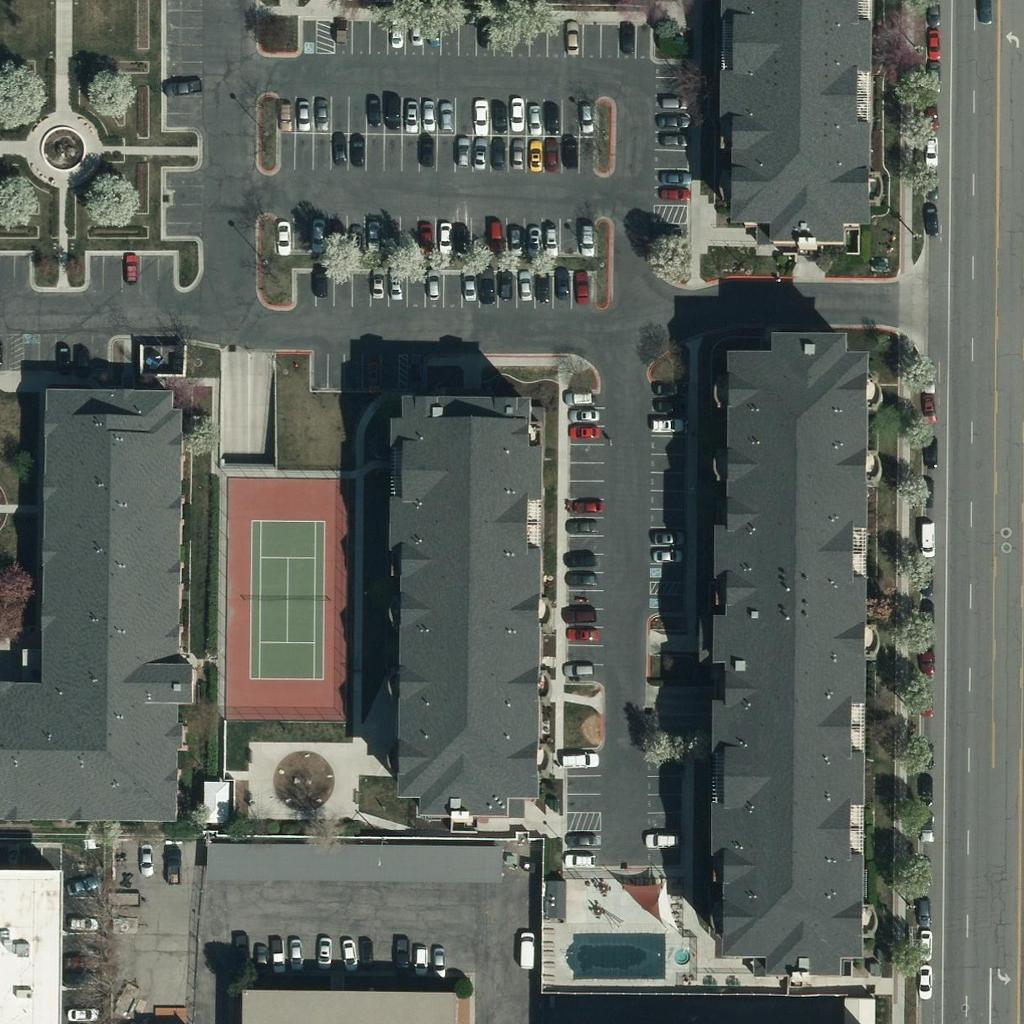car: (398, 10, 432, 44), (416, 11, 450, 45), (378, 14, 412, 48), (556, 18, 590, 52), (609, 21, 643, 55), (915, 25, 949, 59), (916, 56, 950, 90), (162, 70, 196, 104), (655, 84, 689, 118), (357, 92, 391, 126), (373, 94, 407, 128), (913, 94, 947, 128), (303, 95, 337, 129), (393, 97, 427, 131), (464, 97, 498, 131), (482, 97, 516, 131), (499, 97, 533, 131), (266, 98, 300, 132), (286, 98, 320, 132), (411, 98, 445, 132), (571, 98, 605, 132), (428, 100, 462, 134), (517, 101, 551, 135), (536, 101, 570, 135), (654, 101, 688, 135), (654, 122, 688, 156), (913, 129, 947, 163), (409, 130, 443, 164), (554, 131, 588, 165), (338, 132, 372, 166), (445, 133, 479, 167), (462, 135, 496, 169), (480, 135, 514, 169), (533, 135, 567, 169), (500, 136, 534, 170), (517, 136, 551, 170), (656, 159, 690, 193), (913, 169, 947, 203), (656, 175, 690, 209), (913, 201, 947, 235), (477, 216, 511, 250), (301, 217, 335, 251), (355, 217, 389, 251), (567, 219, 601, 253), (446, 220, 480, 254), (265, 221, 299, 255), (429, 221, 463, 255), (497, 221, 531, 255), (516, 221, 550, 255), (533, 221, 567, 255), (411, 223, 445, 257), (114, 250, 148, 284), (303, 261, 337, 295), (489, 263, 523, 297), (546, 263, 580, 297), (357, 264, 391, 298), (378, 264, 412, 298), (452, 265, 486, 299), (416, 267, 450, 301), (526, 267, 560, 301), (469, 268, 503, 302), (507, 270, 541, 304), (565, 271, 599, 305), (47, 342, 81, 376), (67, 344, 101, 378), (910, 358, 944, 392), (652, 369, 686, 403), (556, 378, 590, 412), (909, 385, 943, 419), (654, 387, 688, 421), (567, 396, 601, 430), (650, 406, 684, 440), (568, 413, 602, 447), (914, 432, 948, 466), (910, 472, 944, 506), (573, 489, 607, 523), (564, 509, 598, 543), (651, 520, 685, 554), (909, 525, 943, 559), (647, 538, 681, 572), (566, 543, 600, 577), (565, 560, 599, 594), (908, 561, 942, 595), (563, 597, 597, 631), (566, 615, 600, 649), (909, 638, 943, 672), (561, 651, 595, 685), (909, 686, 943, 720), (909, 737, 943, 771), (563, 742, 597, 776), (908, 772, 942, 806), (909, 805, 943, 839), (563, 821, 597, 855), (644, 823, 678, 857), (157, 840, 191, 874), (126, 841, 160, 875), (561, 842, 595, 876), (64, 868, 98, 902), (906, 893, 940, 927), (61, 903, 95, 937), (907, 928, 941, 962), (509, 931, 543, 965), (307, 934, 341, 968), (348, 935, 382, 969), (331, 936, 365, 970), (384, 936, 418, 970), (278, 937, 312, 971), (243, 939, 277, 973), (261, 941, 295, 975), (404, 943, 438, 977), (420, 943, 454, 977), (61, 944, 95, 978), (63, 960, 97, 994), (907, 964, 941, 998), (0, 840, 28, 874), (64, 997, 98, 1024), (915, 0, 949, 25), (966, 0, 1000, 19)
